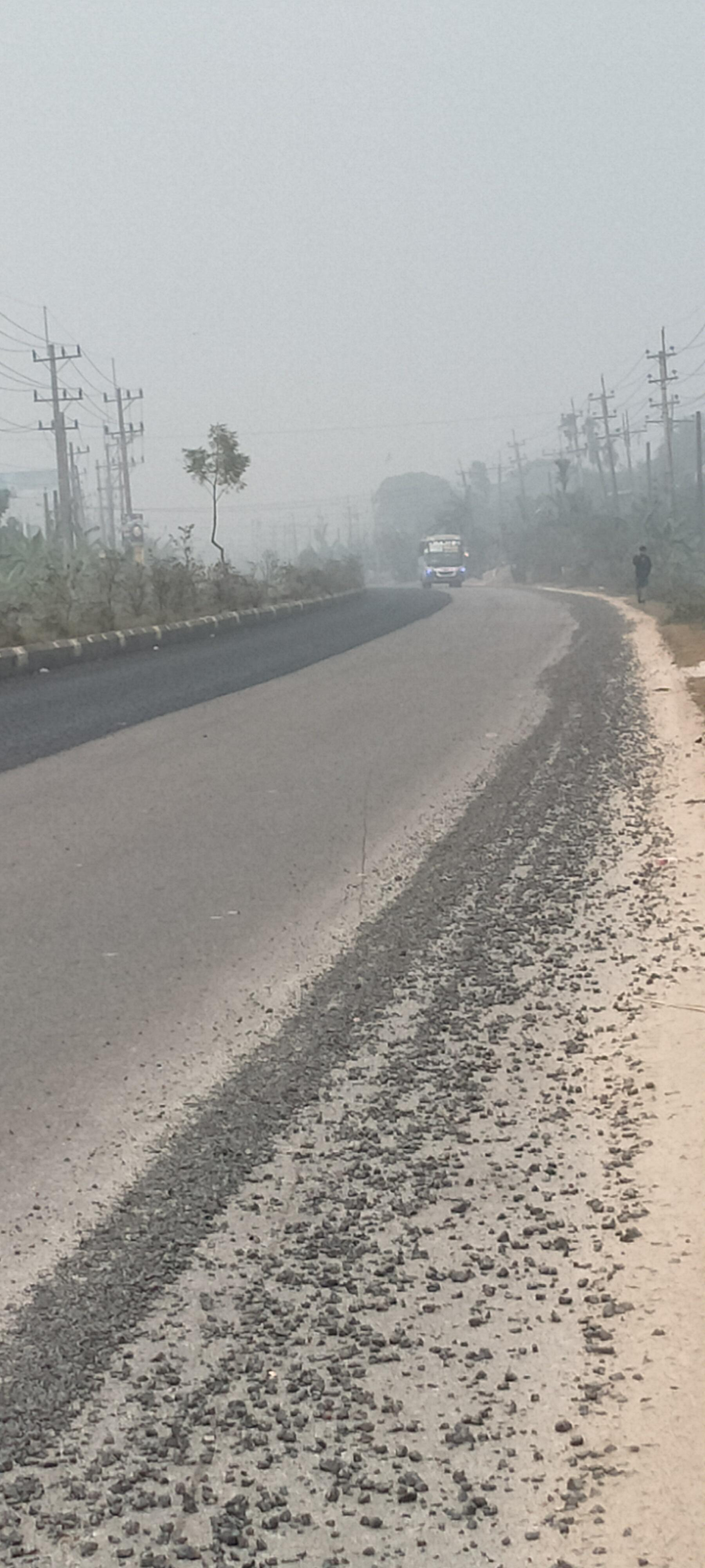Bus: (400, 514, 480, 601)
